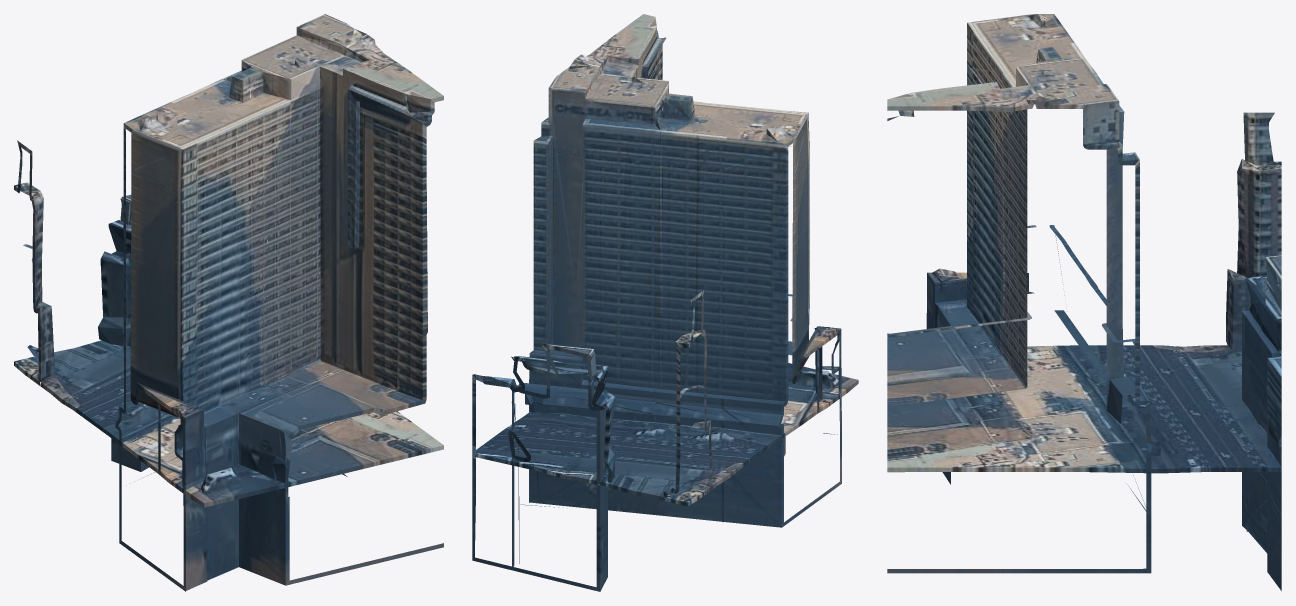
The model's file is chunk_-6_-7.glb.
3 views of the same model, side by side, from view 1: azimuth 30°, elevation 25°; view 2: azimuth 150°, elevation 25°; view 3: azimuth 270°, elevation 25° (orthographic). The views are drawn at different scales.
Parts seen in each view (by area): view 1: hero-chunk; view 2: hero-chunk; view 3: hero-chunk.
Part boxes in pixels (<box>): hero-chunk: <box>14,14,443,591</box>; hero-chunk: <box>472,14,858,591</box>; hero-chunk: <box>887,14,1281,590</box>.
Bounding box in the file's own units: 56.04 × 106 × 76.33.
Materials: 2 (2 with a texture image).
